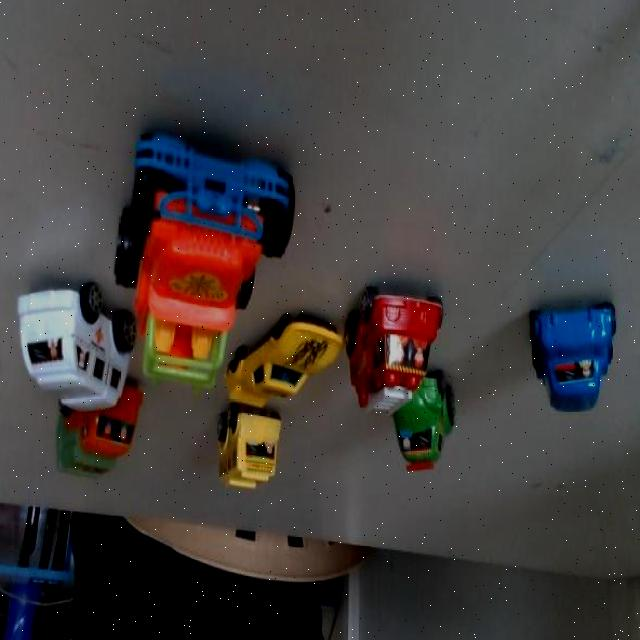car: (124, 112, 302, 332), (516, 270, 636, 428), (226, 301, 344, 415), (354, 276, 446, 415), (15, 288, 120, 401), (59, 384, 142, 484), (392, 374, 459, 467), (226, 410, 288, 499)
